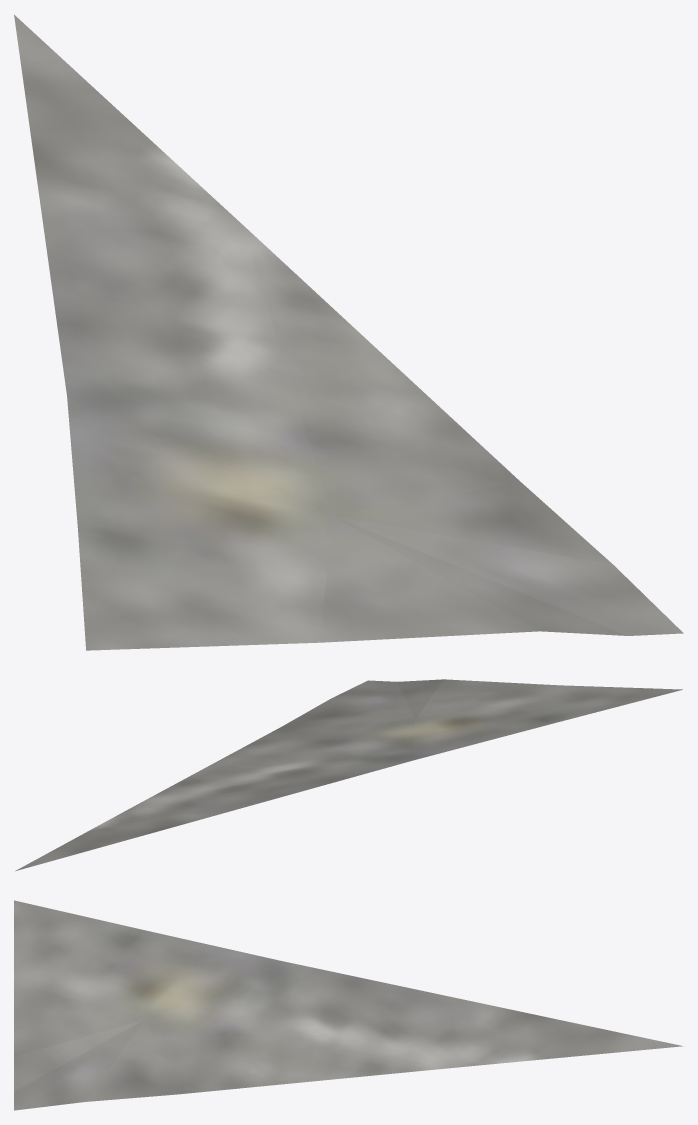
3 views of the same model, one above another, from view 1: azimuth 30°, elevation 25°; view 2: azimuth 150°, elevation 25°; view 3: azimuth 270°, elevation 25° (orthographic). The views are drawn at different scales.
Size of the model in its own units: 0.32 by 0.0658 by 0.621.
1 material, 1 textured.
